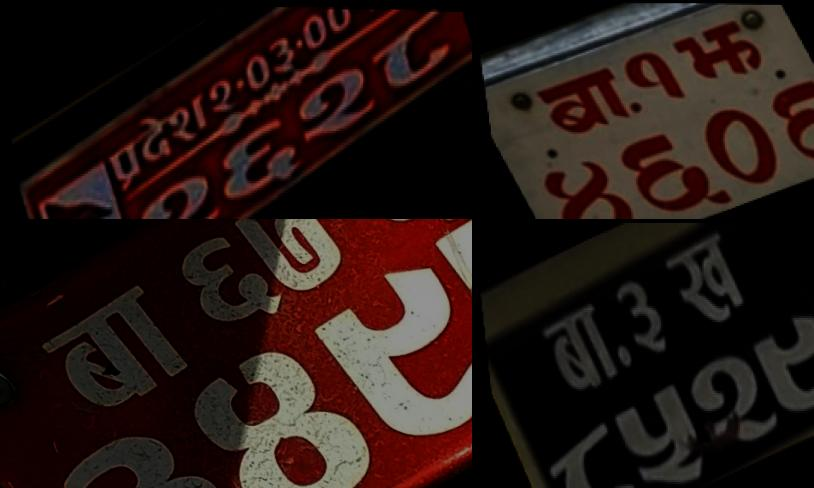0: (681, 90, 794, 202), (294, 6, 332, 56), (236, 44, 272, 92), (321, 6, 355, 35)
1: (612, 40, 694, 118), (346, 6, 382, 22)
2: (671, 332, 789, 472), (286, 49, 378, 151), (124, 157, 219, 219), (200, 70, 236, 118)
3: (19, 401, 251, 488), (600, 261, 681, 369), (264, 26, 298, 77)
4: (150, 322, 391, 488), (522, 147, 638, 219)
5: (600, 371, 714, 488)
6: (151, 219, 295, 353), (596, 114, 731, 219), (205, 104, 301, 212), (745, 64, 814, 181)
7: (218, 219, 360, 311)
8: (523, 405, 640, 488), (363, 7, 455, 96)
9: (283, 242, 472, 462), (738, 298, 814, 431)
ba: (9, 269, 199, 426), (524, 289, 630, 409), (523, 60, 639, 148)
jha: (662, 10, 776, 97)
kha: (652, 222, 760, 344)
